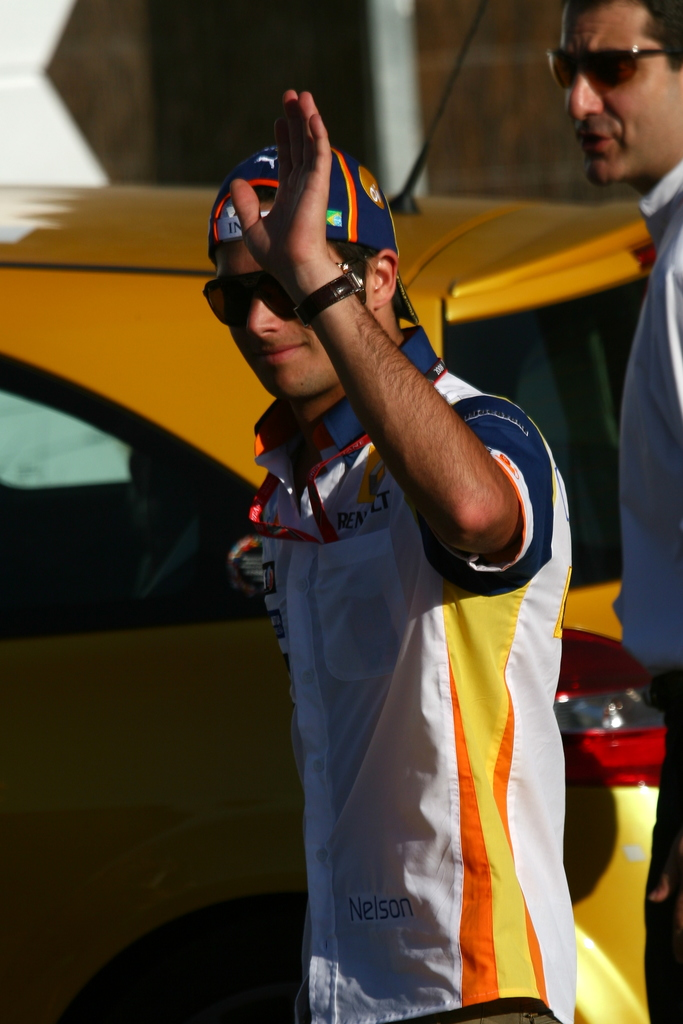Car: (0, 0, 675, 1023)
